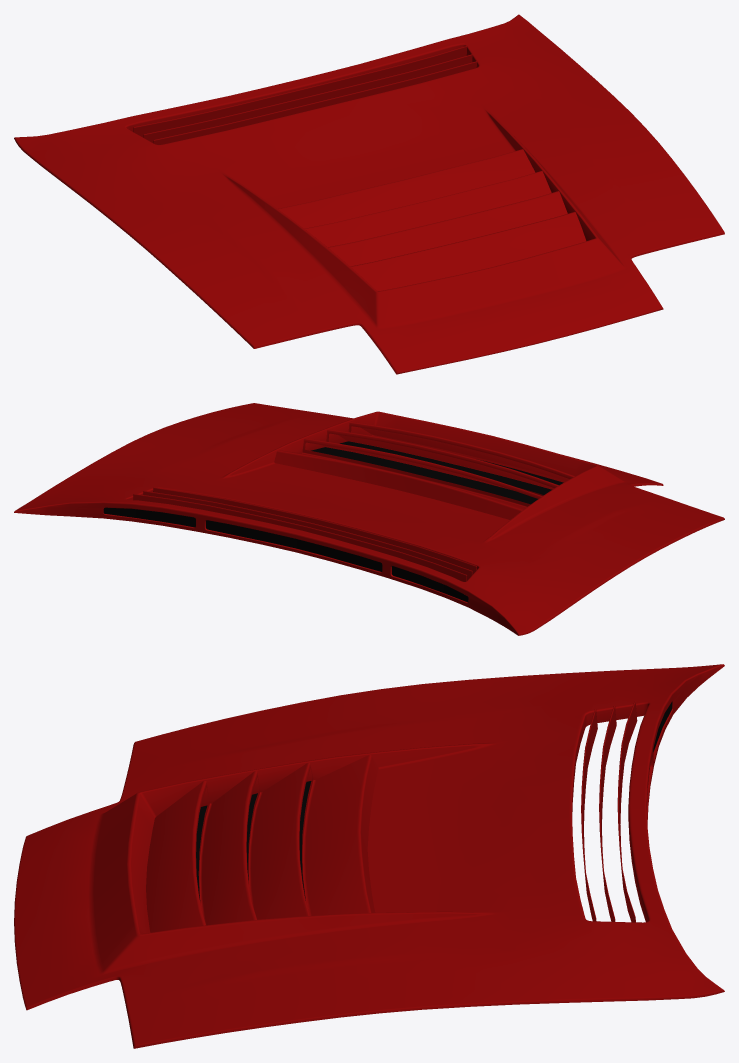
Rendered from bonnet_dmax.glb.
The picture shows the model from 3 angles, top to bottom: view 1: azimuth 30°, elevation 25°; view 2: azimuth 150°, elevation 25°; view 3: azimuth 270°, elevation 25°; orthographic projection. The views are drawn at different scales.
Visible parts, largest first — view 1: Bonnet; view 2: Bonnet, Cover; view 3: Bonnet, Cover.
Part boxes in pixels (<box>): Bonnet: <box>14,14,724,374</box>; Bonnet: <box>14,403,724,635</box>; Cover: <box>103,441,563,602</box>; Bonnet: <box>14,664,724,1048</box>; Cover: <box>196,702,672,900</box>.
Bounding box in the file's own units: 1.45 × 0.2474 × 1.33.
